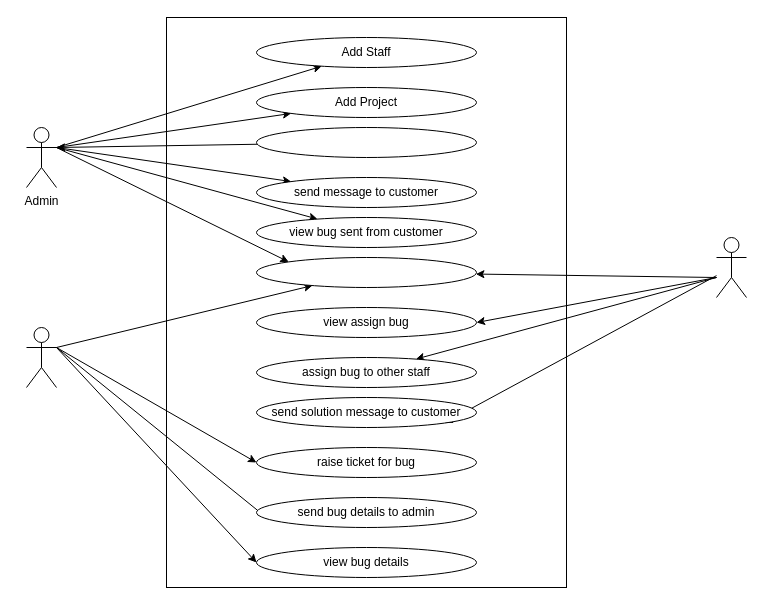
Image size: 775x605. Some labels were removed from this diagram. Each missing label, with the box of its shape:
Assign Bug to employe: (256, 126, 476, 158)
customer: (26, 326, 56, 388)
employee: (716, 236, 746, 298)
Login: (256, 256, 476, 288)
